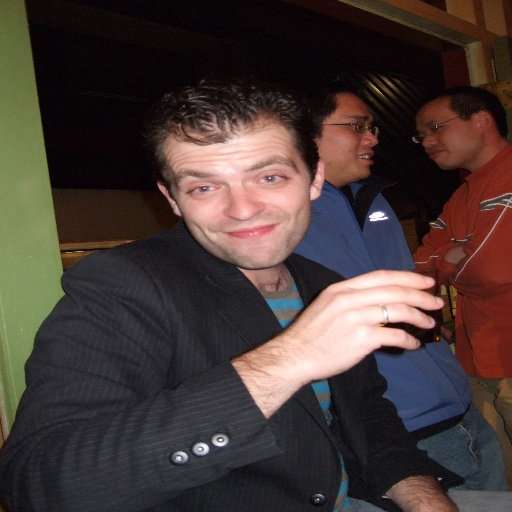hand: (222, 275, 440, 401)
